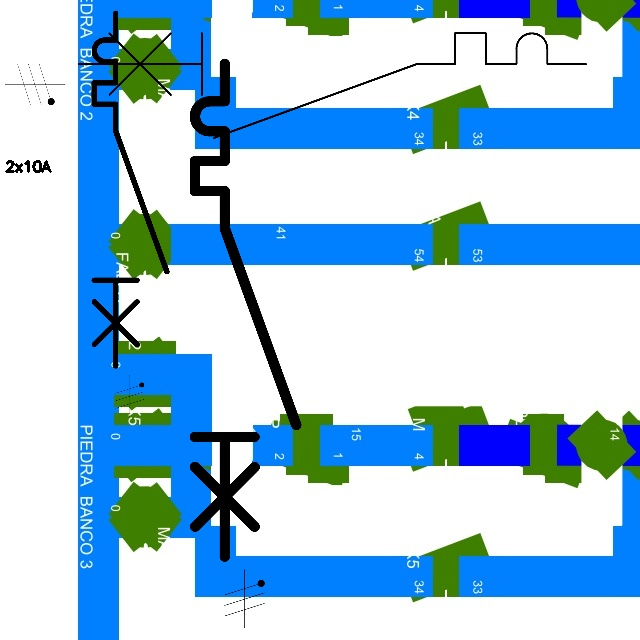interruptor_termomagnetico: (65, 20, 599, 150), (182, 51, 309, 569), (85, 4, 176, 375)
